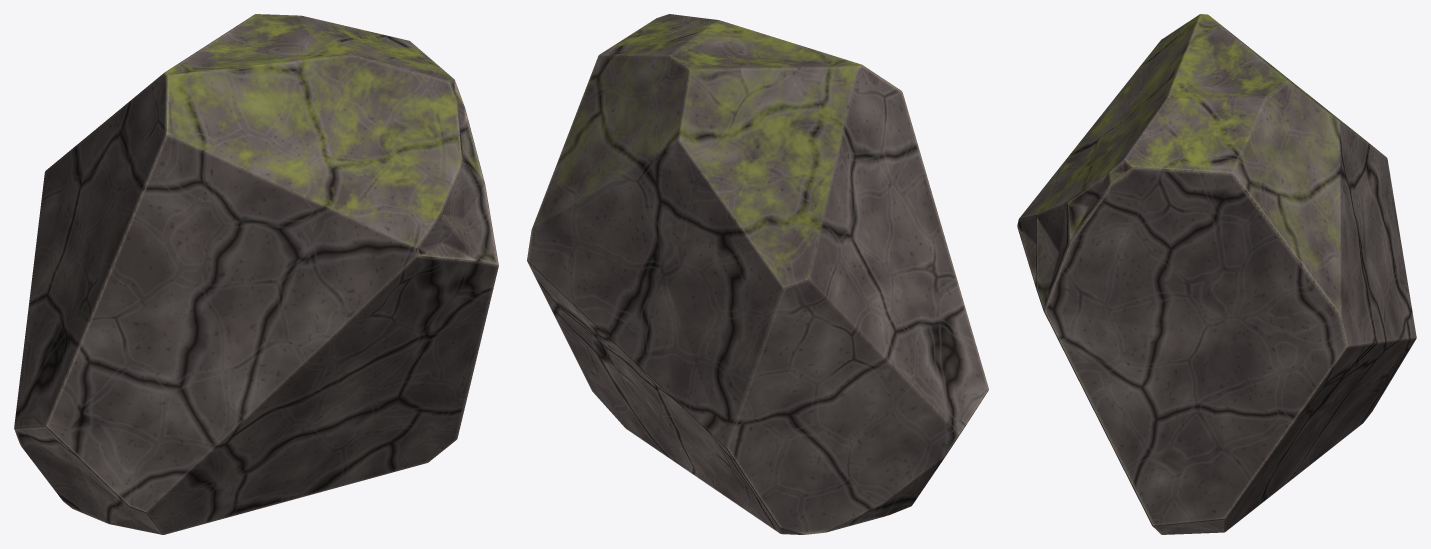
File: Stone_Boulder_B.fbx
The picture shows the model from 3 angles, left to right: view 1: azimuth 30°, elevation 25°; view 2: azimuth 150°, elevation 25°; view 3: azimuth 270°, elevation 25°; orthographic projection. The views are drawn at different scales.
Parts seen in each view (by area): view 1: Stone_Boulder_B; view 2: Stone_Boulder_B; view 3: Stone_Boulder_B.
Part boxes in pixels (x1,y1,x2,y2): Stone_Boulder_B: (14,14,498,534); Stone_Boulder_B: (527,14,988,534); Stone_Boulder_B: (1017,14,1416,534).
Bounding box in the file's own units: 0.8548 × 0.8735 × 0.7725.
